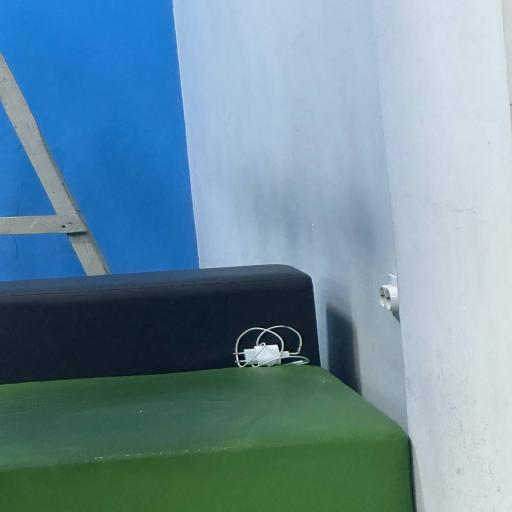sidewalk: (1, 264, 429, 512)
